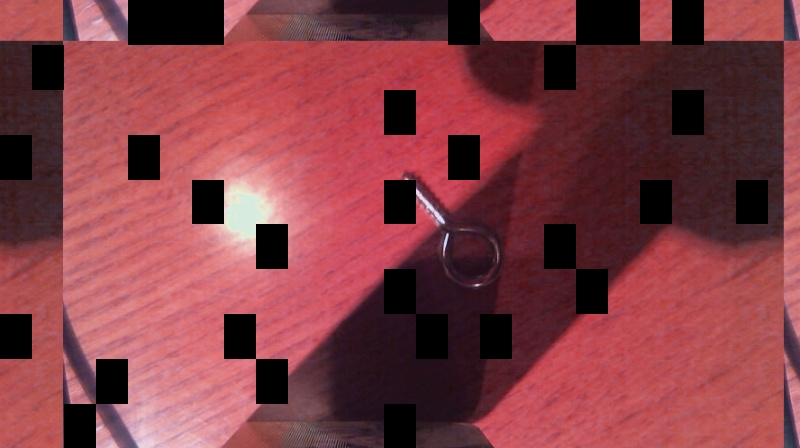O001: (399, 169, 504, 290)
